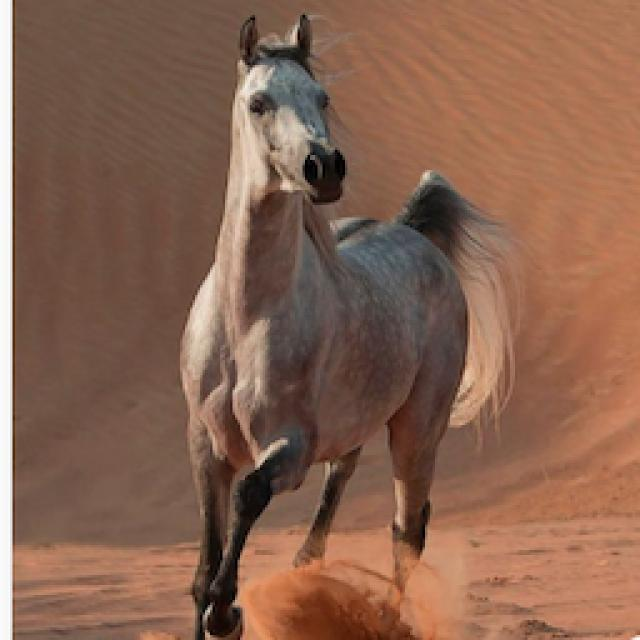Horse: (165, 8, 525, 638)
